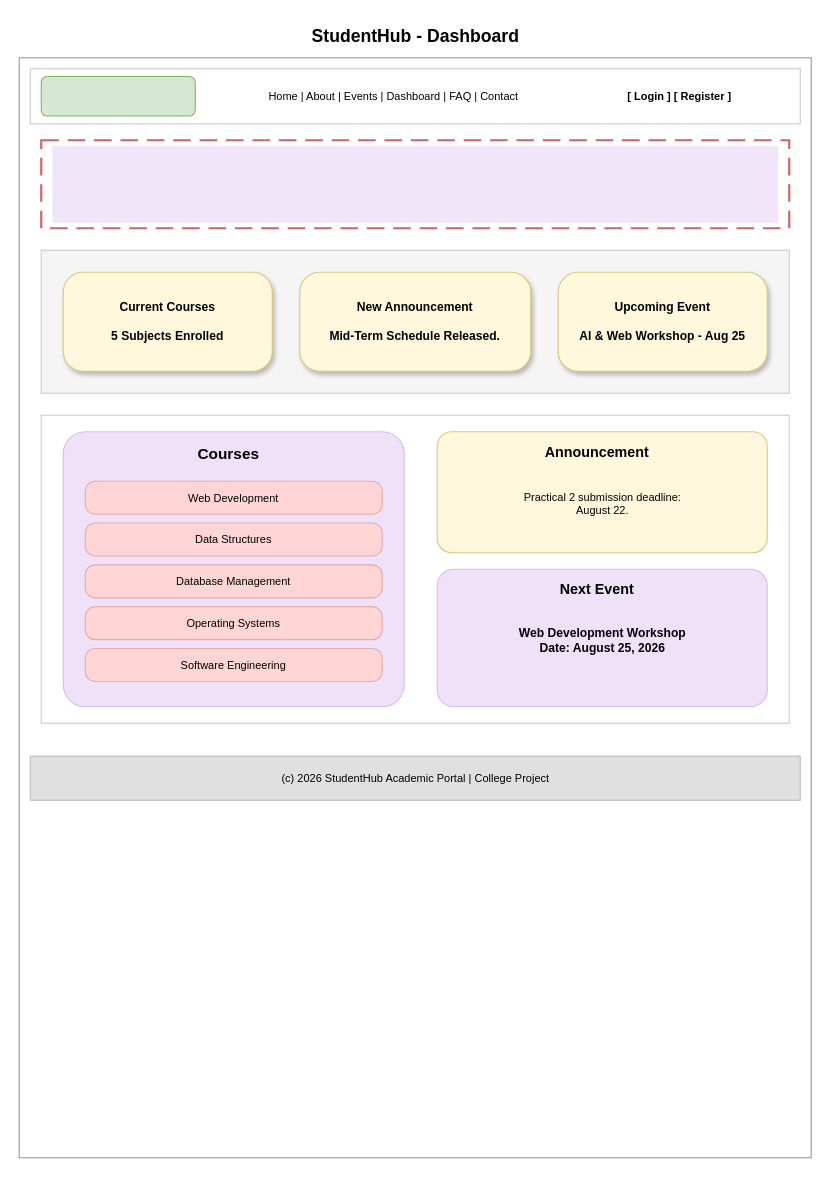
The diagram is 831 pixels wide and 1177 high, and some of its shapes have lost their labels. Each missing label, with the centre of its shape:
[ Logo ] StudentHub: point 117,95
Welcome, Student: point 415,183
